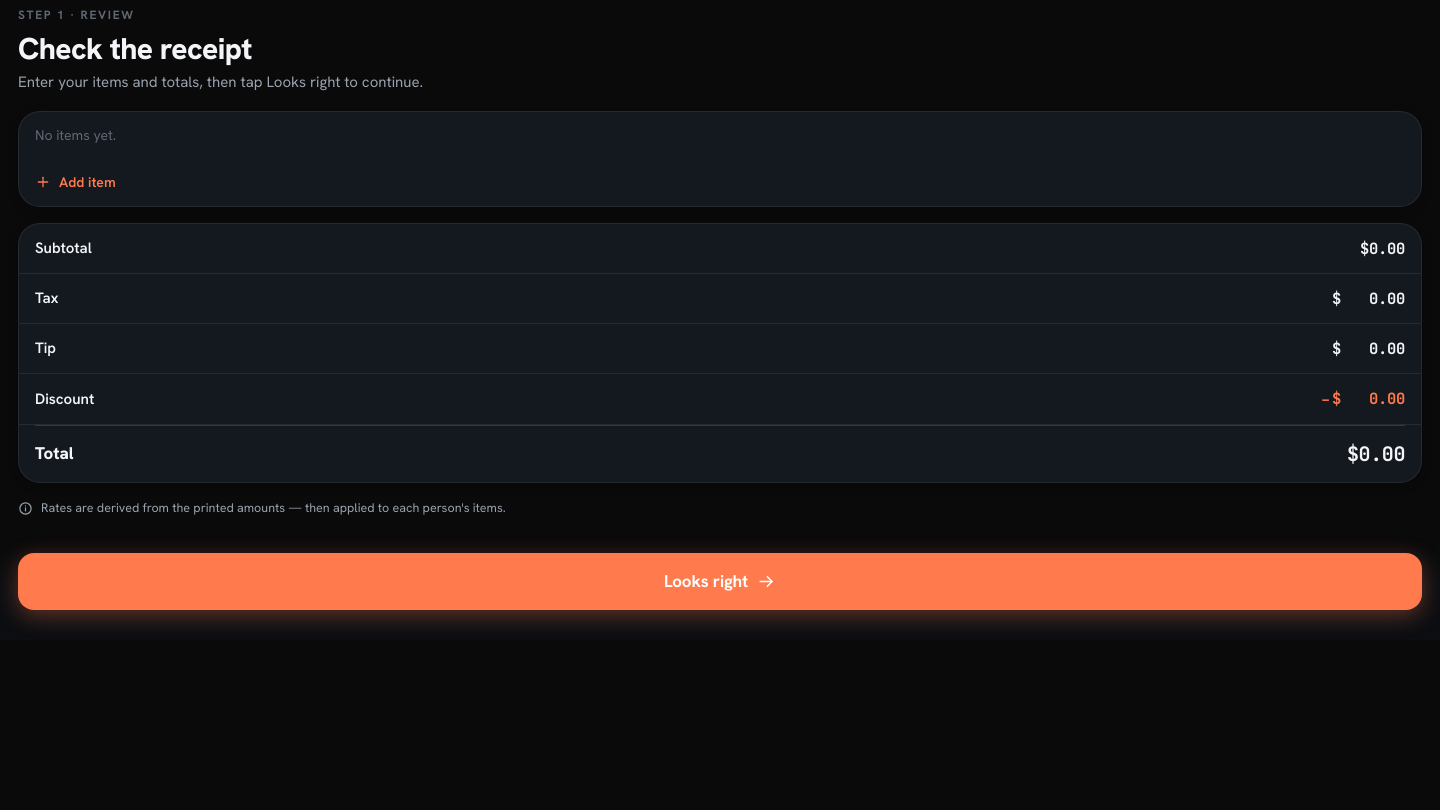
Test case: totals editing › rate chips appear when subtotal is non-zero
Click the button "Add item" at [87, 182], box 19,158 -> 1421,206
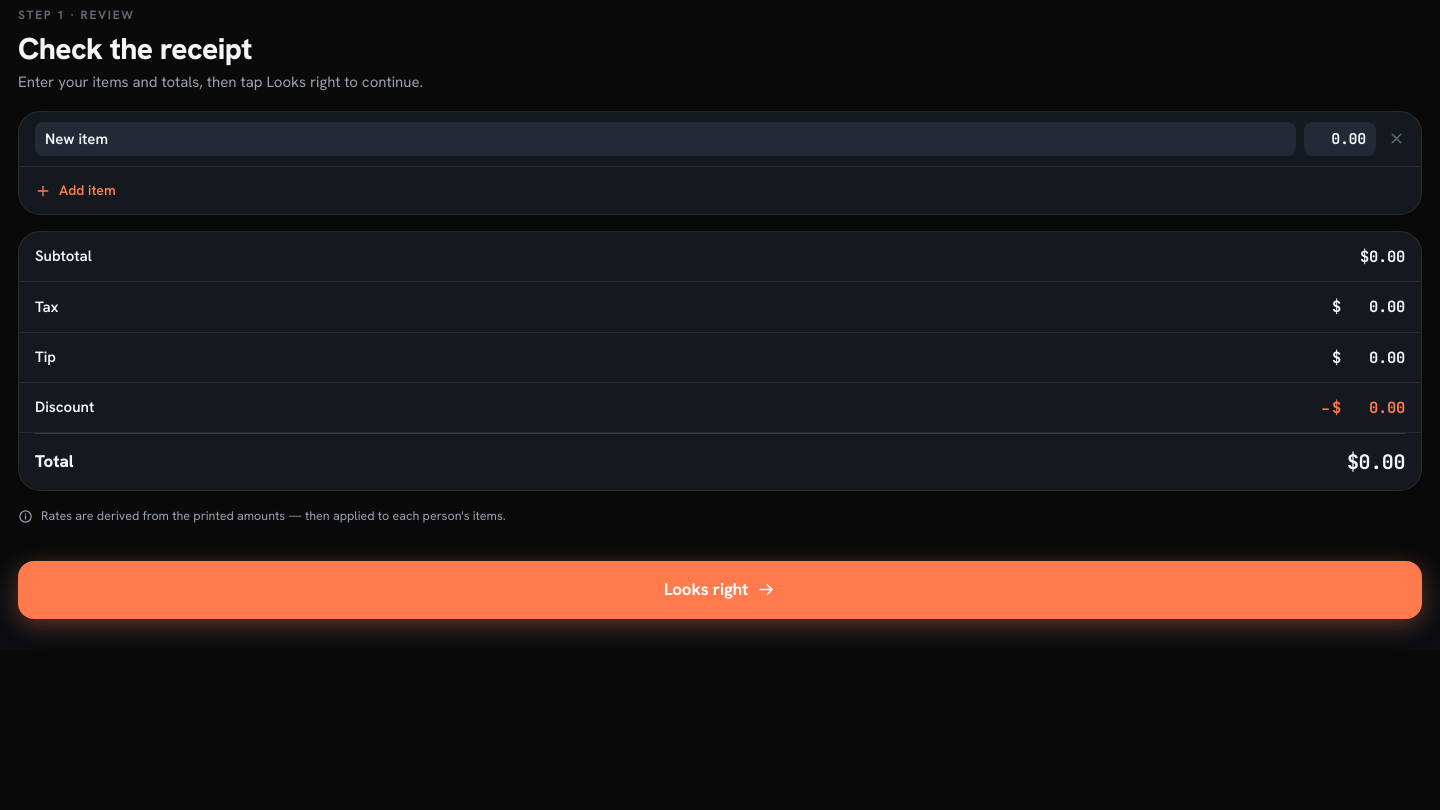
Replace the text in the field named "item price" with "49.25" at [1340, 139], box 1304,122 -> 1376,156
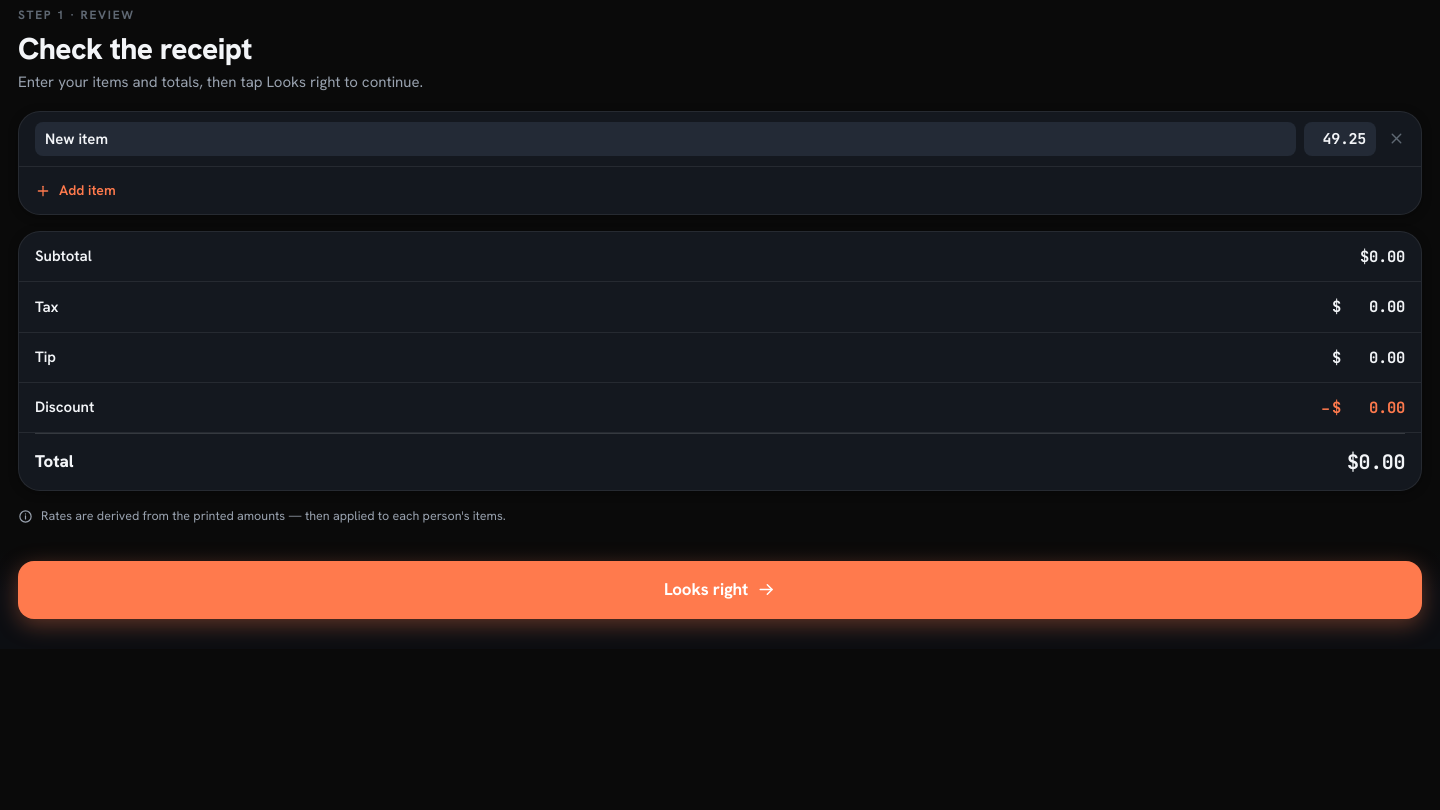
Press Enter in the field named "item price", box 1304,122 -> 1376,156
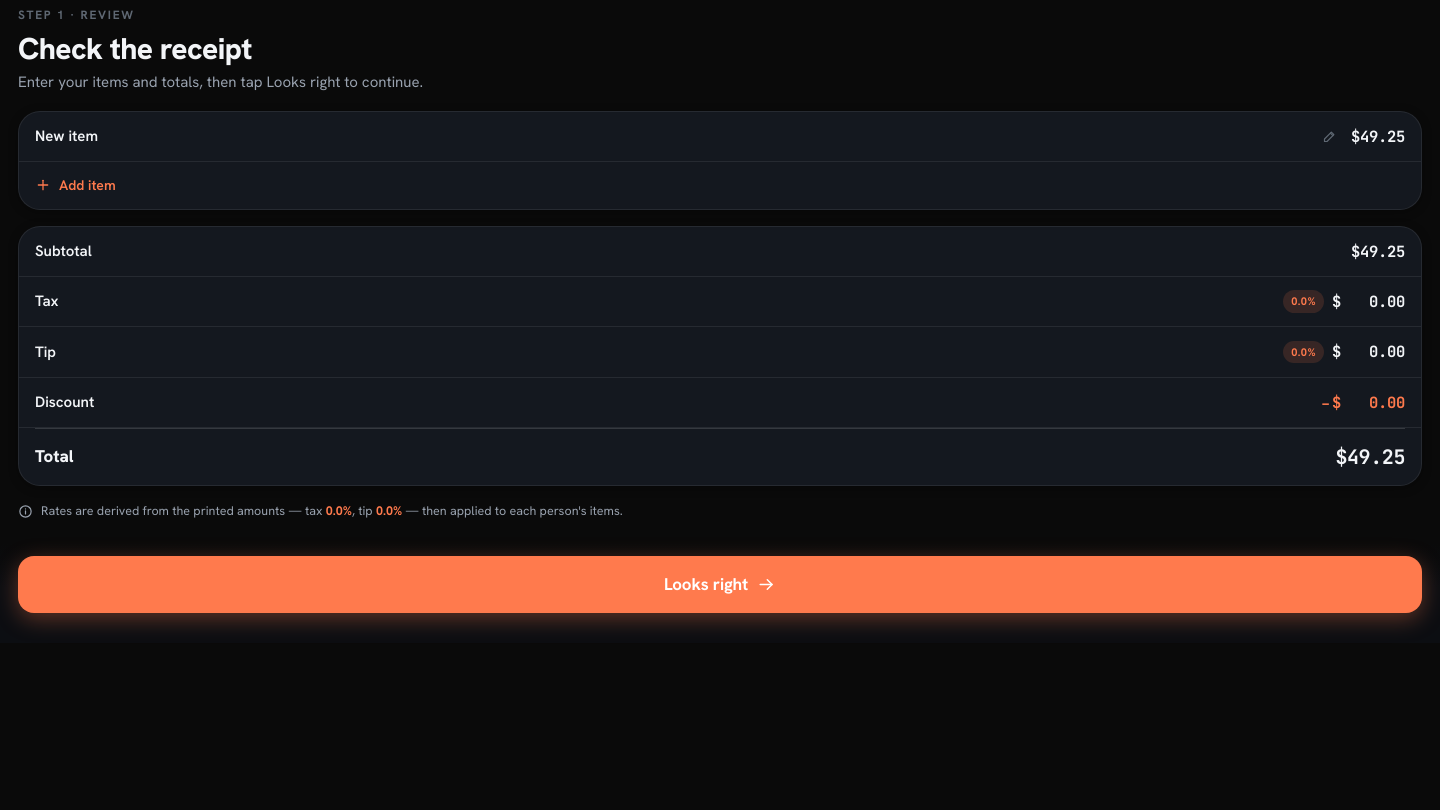
Replace the text in the field named "tax" with "4.31" at [1373, 302], box 1341,290 -> 1405,313
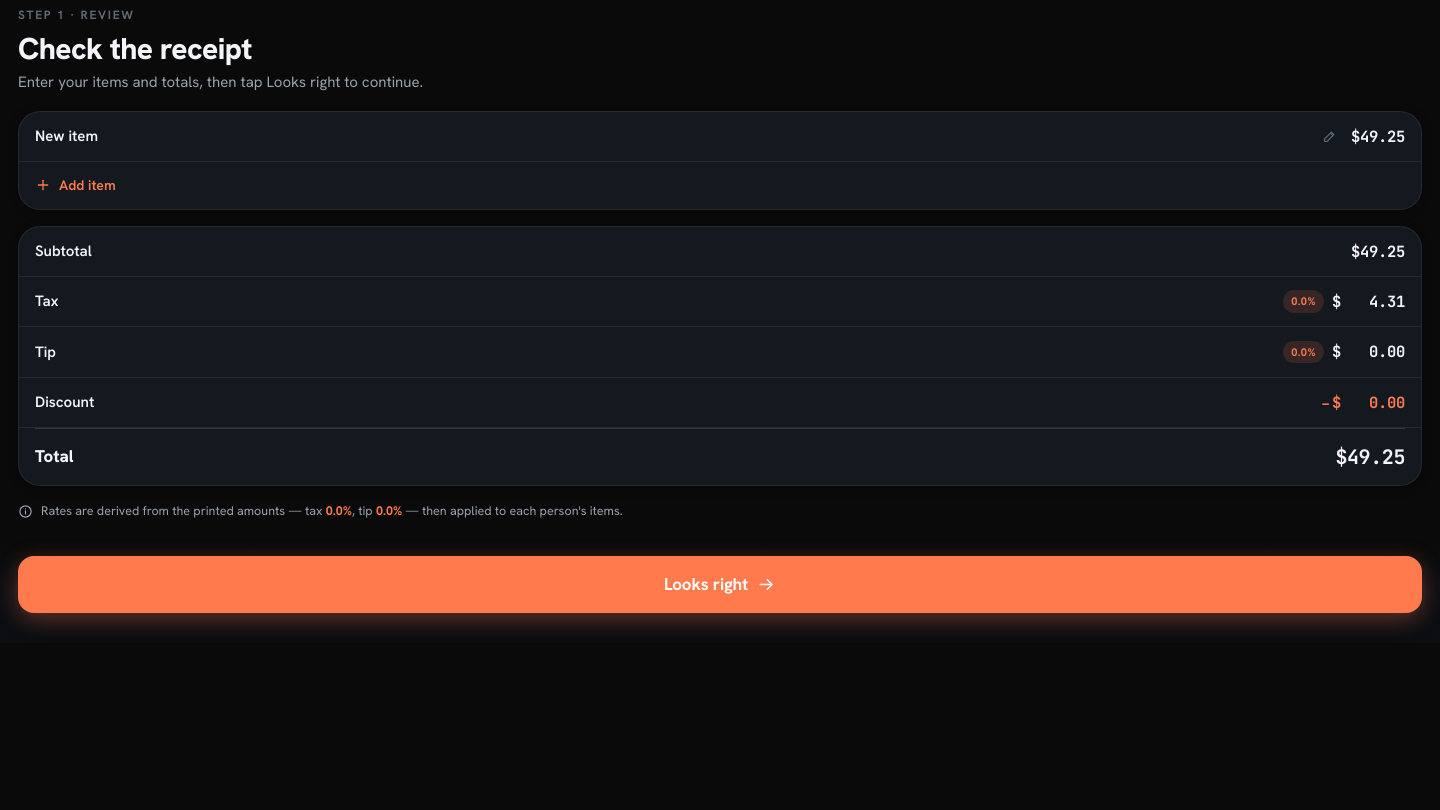
Leave the field named "tax", box 1341,290 -> 1405,313
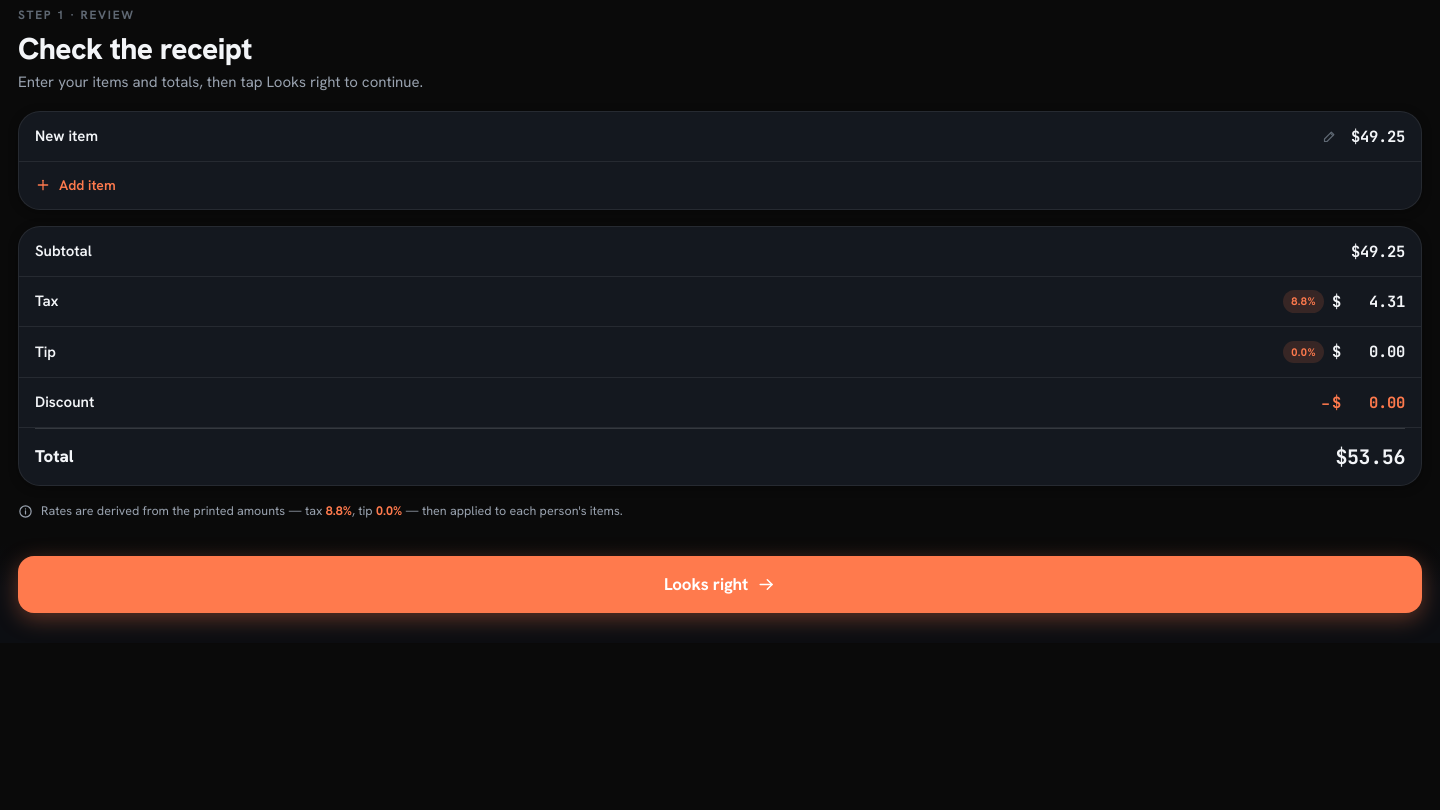
Expected: the 1st text "8.8%" is shown, 1283,290 -> 1324,313
